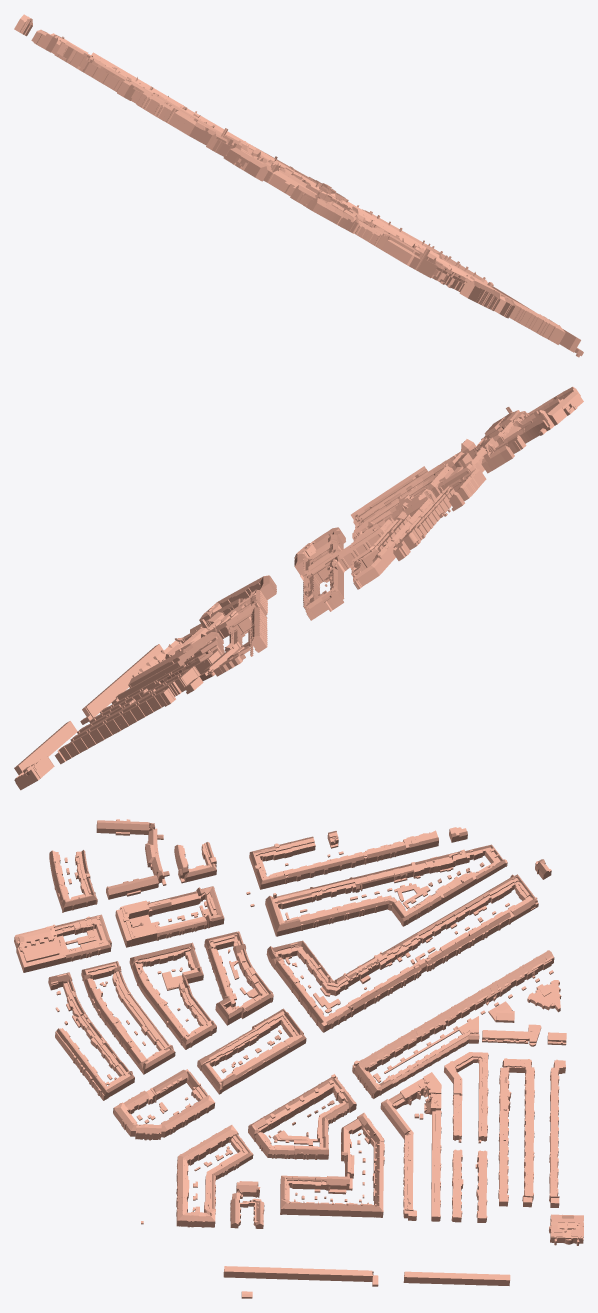
3 views of the same model, one above another, from view 1: azimuth 30°, elevation 25°; view 2: azimuth 150°, elevation 25°; view 3: azimuth 270°, elevation 25° (orthographic). The views are drawn at different scales.
Bounding box in the file's own units: 1.67e+07 × 1.31e+07 × 2.21e+07.
